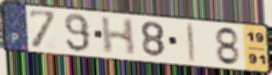7: (29, 8, 58, 50)
8: (213, 24, 241, 68), (140, 21, 167, 59)
9: (63, 12, 92, 54)
H: (99, 16, 137, 57)
I: (185, 22, 197, 64)
